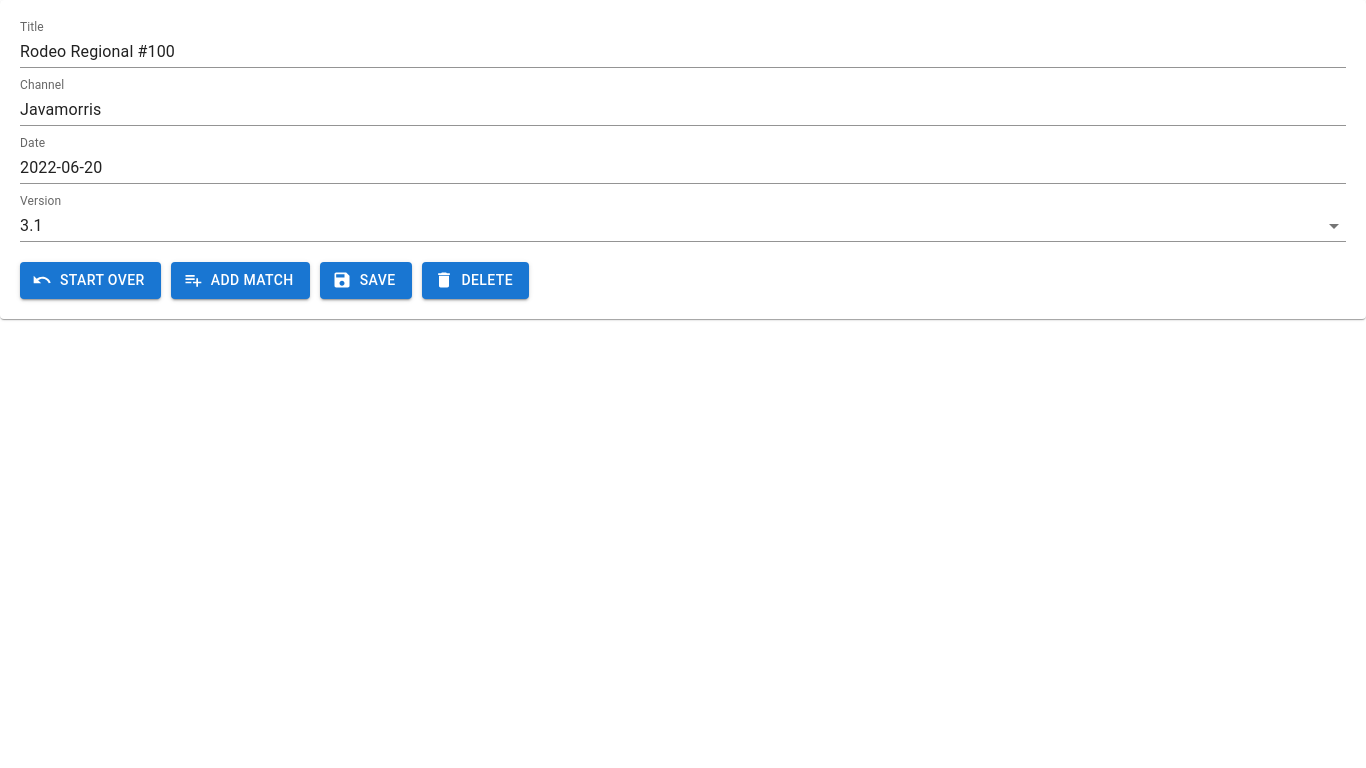
Timestamps › rejects a tournament with no matches and can close error modal
The image size is (1366, 768).
Click the button "Save" at (366, 280), box [320, 262, 412, 298]
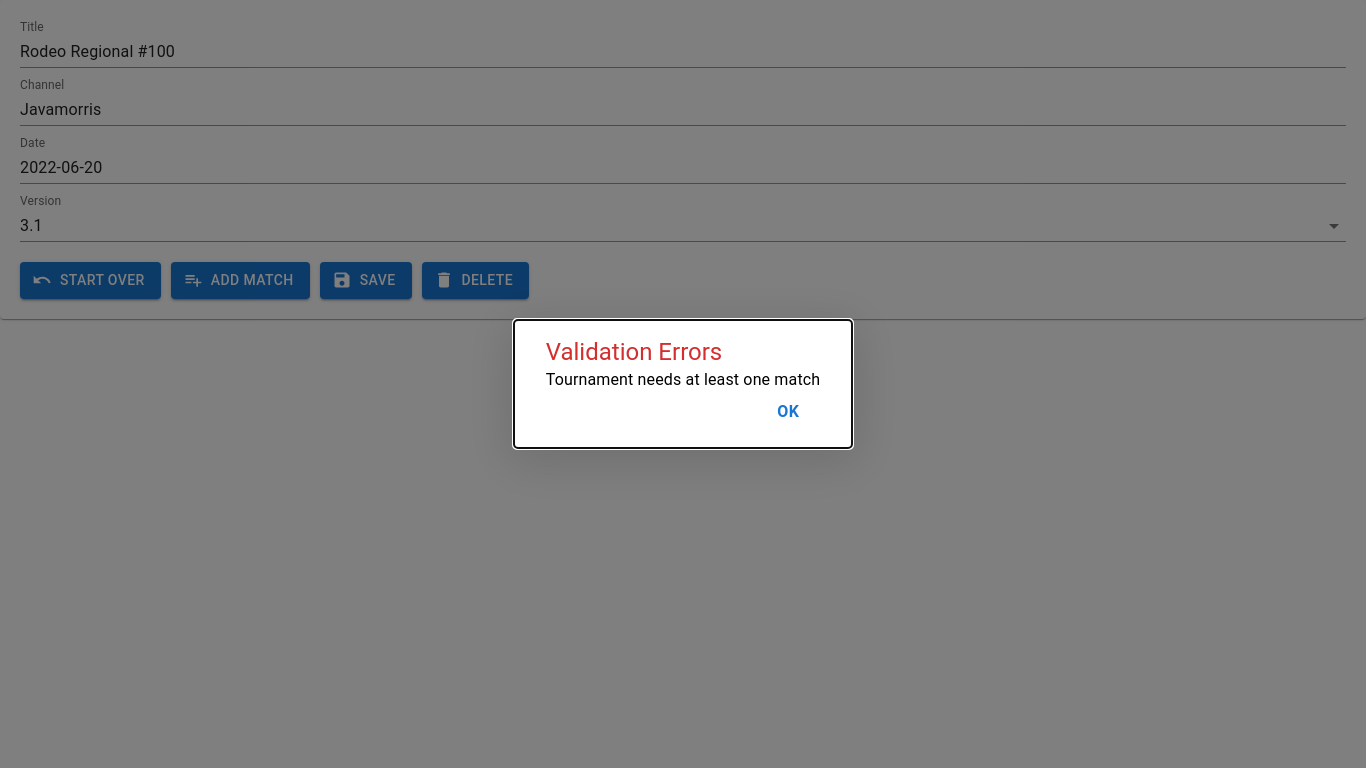
Result: the heading "Validation Errors" is shown at [546, 338, 722, 366]
Result: the text "Tournament needs at least one match" is shown at [546, 368, 820, 392]
Click the button "Ok" at (788, 412), box [756, 392, 820, 432]
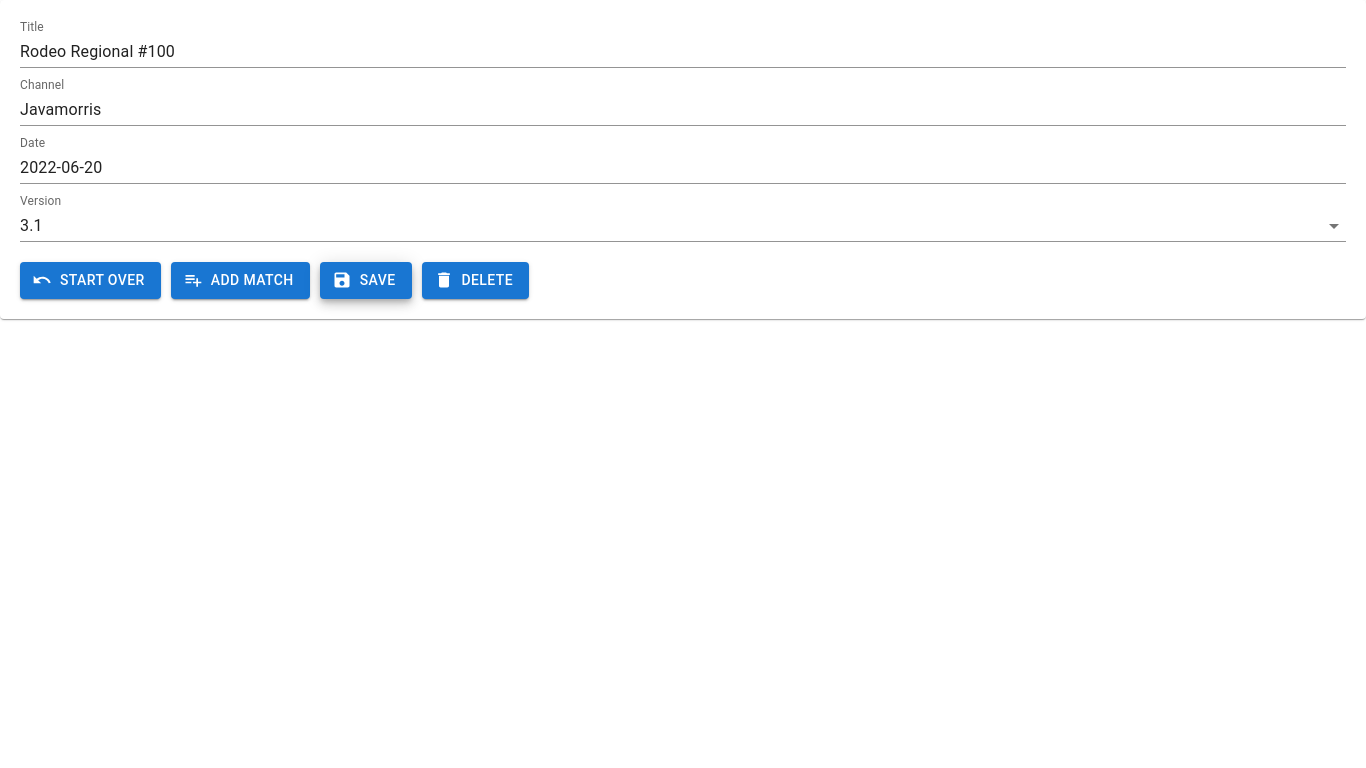
Result: the heading "Validation Errors" is gone
